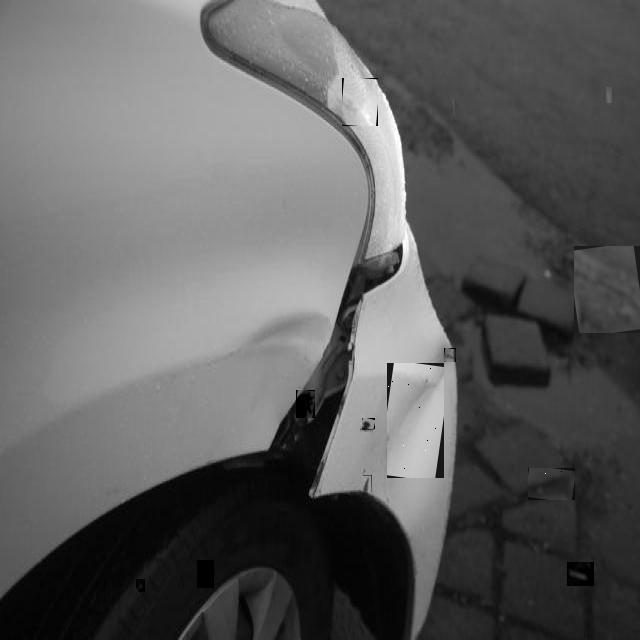Dent: (387, 363, 444, 478), (574, 246, 640, 333), (342, 78, 378, 126), (528, 468, 575, 500), (567, 562, 594, 586), (296, 390, 315, 418), (197, 560, 214, 588), (444, 348, 456, 362), (363, 475, 372, 492), (362, 418, 375, 429), (388, 434, 395, 452), (136, 579, 145, 592), (606, 87, 612, 103)
